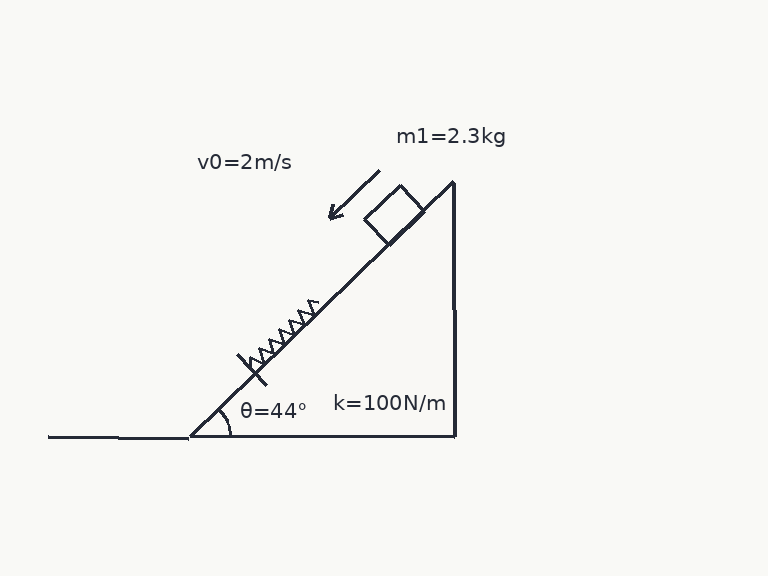block: (362, 183, 426, 247)
ramp: (188, 181, 455, 439)
spring: (248, 299, 320, 369)
